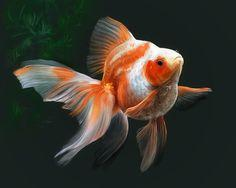goldfish: (46, 30, 205, 162)
